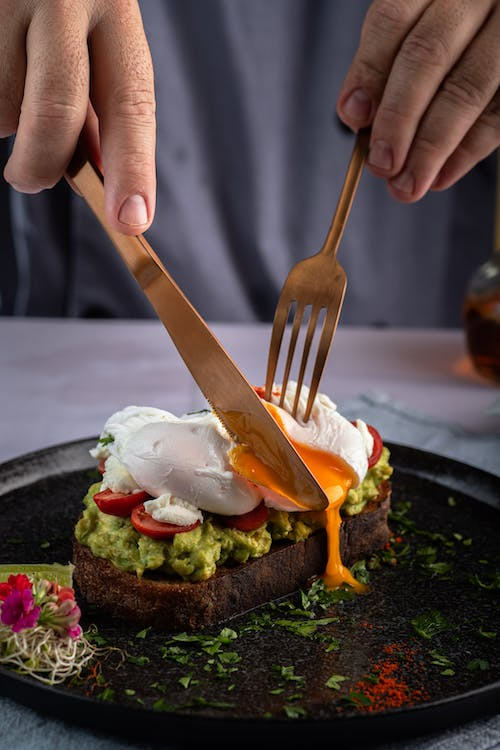knife: (62, 135, 331, 515)
